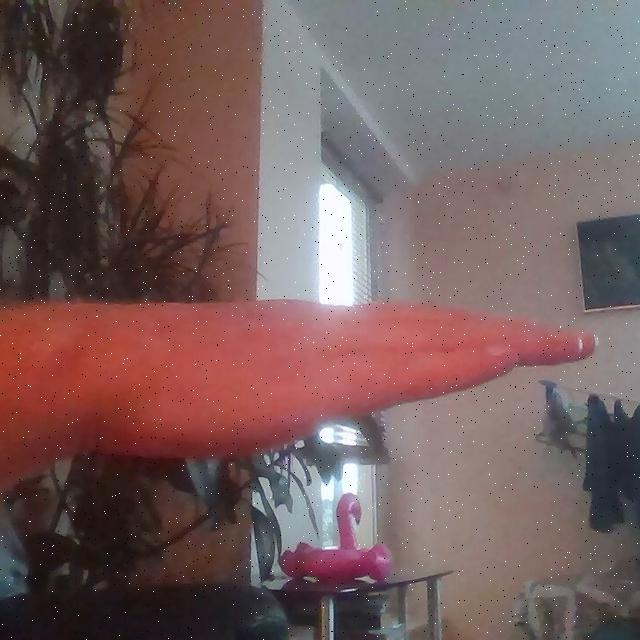papper: (80, 292, 609, 473)
